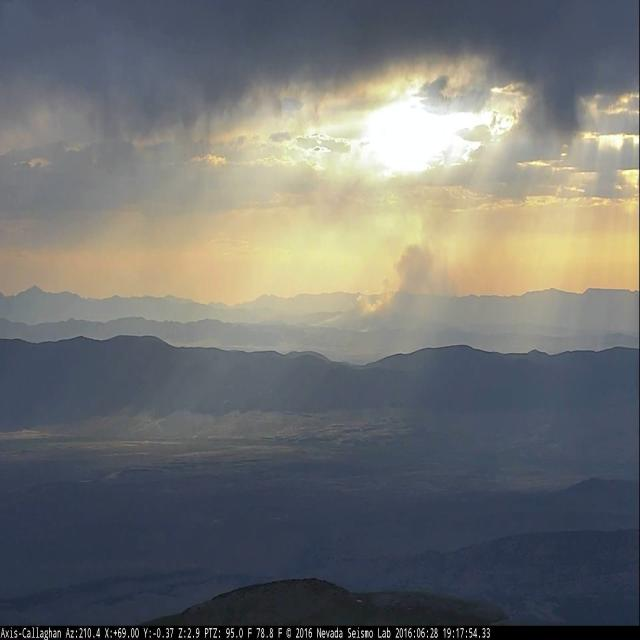smoke: (312, 241, 431, 328)
